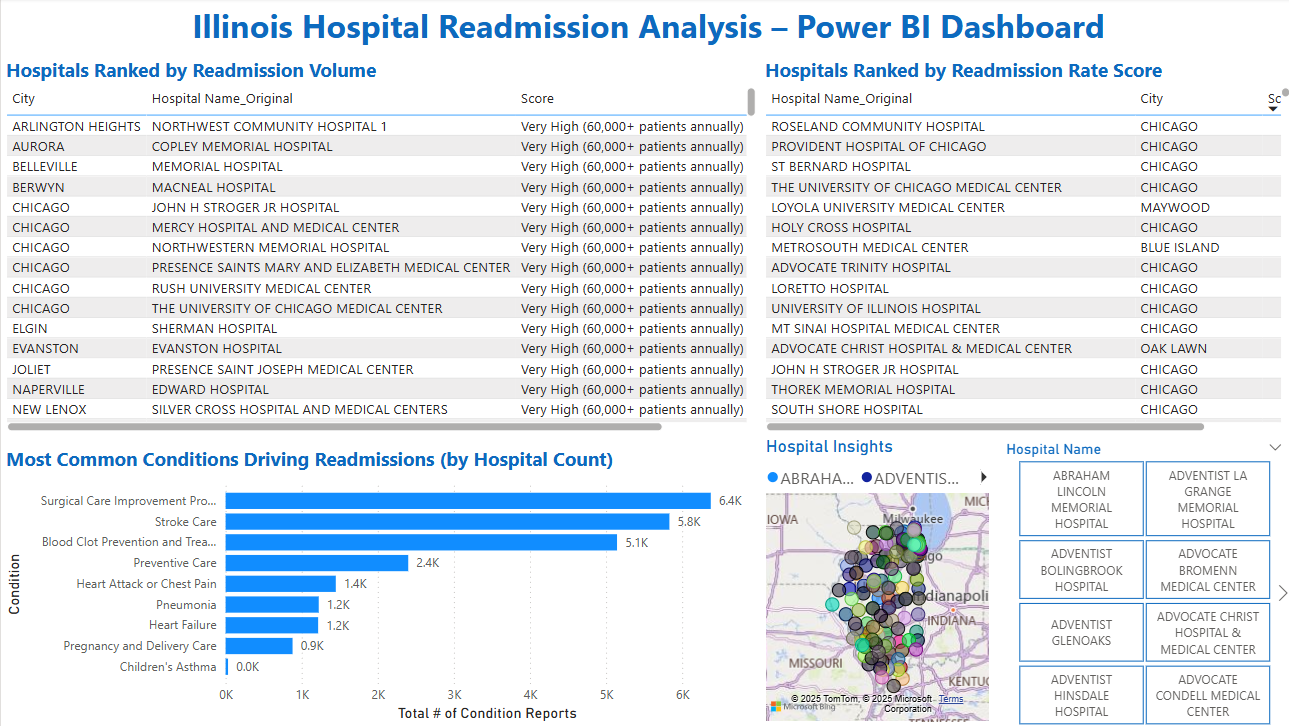

This screenshot's page, from the dashboard's own definition file:
{"tool":"powerbi","page":{"name":"Page 1","canvas":[1280,720],"ordinal":0},"visuals":[{"type":"tableEx","title":"Hospitals Ranked by  Readmission Rate Score","fields":{"Values":["ReadmissionOnly.Hospital Name","ReadmissionOnly.City","rows.Score - Numeric"]},"box":[750.2,58.3,528.8,374.6],"z":0},{"type":"barChart","title":"Most Common Conditions Driving Readmissions (by Hospital Count)","fields":{"Category":["ReadmissionOnly.Condition"],"Y":["ReadmissionOnly.Merged_Hospitals.Hospital Name"]},"box":[0,442.8,751.2,276.8],"z":1000},{"type":"tableEx","title":"Hospitals Ranked by Readmission Volume","fields":{"Values":["ReadmissionOnly.City","ReadmissionOnly.Hospital Name","ReadmissionOnly.Score","ReadmissionOnly.Score Rank"]},"box":[0,58.3,751.2,374.6],"z":2000},{"type":"map","title":"Hospital Insights","fields":{"Category":["rows.Merged_Hospitals.Location"],"Series":["rows.Merged_Hospitals.Hospital Name"]},"box":[751.2,432.9,230.3,286.6],"z":3000},{"type":"textbox","box":[0,0,1280,54.4],"z":4000},{"type":"slicer","fields":{"Values":["rows.Hospital Name"]},"box":[981,433,298,287],"z":5000}]}

Visuals, with their boxes in screenshot pixels (x1, y1, x2, y2), scaled from the page's 1280x720 canvas onto the 1289x726 screenshot:
"Hospitals Ranked by  Readmission Rate Score" tableEx: bbox(755, 59, 1288, 437)
"Most Common Conditions Driving Readmissions (by Hospital Count)" barChart: bbox(0, 446, 756, 725)
"Hospitals Ranked by Readmission Volume" tableEx: bbox(0, 59, 756, 437)
"Hospital Insights" map: bbox(756, 437, 988, 725)
textbox: bbox(0, 0, 1288, 55)
slicer - rows.Hospital Name: bbox(988, 437, 1288, 725)
